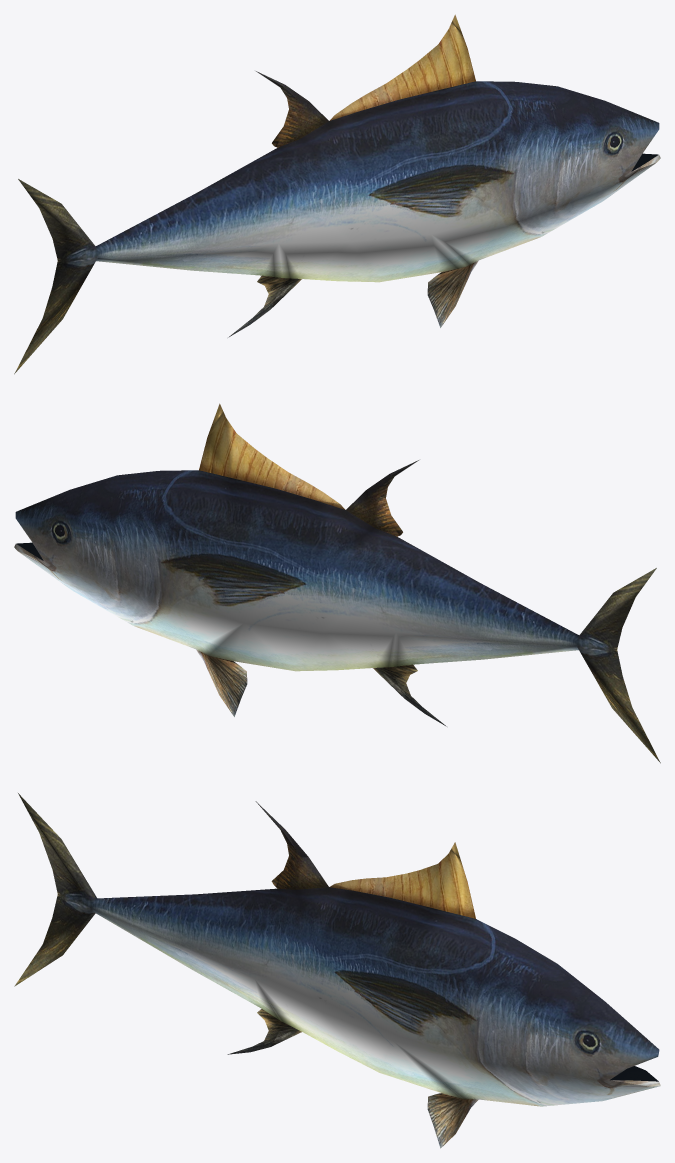
File: Fish.obj
3 renders of one model, top to bottom at view 1: azimuth 30°, elevation 25°; view 2: azimuth 150°, elevation 25°; view 3: azimuth 330°, elevation 25°, orthographic.
Visible parts, largest first — view 1: Atlantic_bluefin_tuna; view 2: Atlantic_bluefin_tuna; view 3: Atlantic_bluefin_tuna.
Boxes of the visible parts, bbox=[...] form: Atlantic_bluefin_tuna: bbox=[14, 14, 660, 374]; Atlantic_bluefin_tuna: bbox=[14, 403, 660, 763]; Atlantic_bluefin_tuna: bbox=[14, 793, 660, 1148].
Size of the model in its own units: 88.67 by 40.67 by 9.66.
